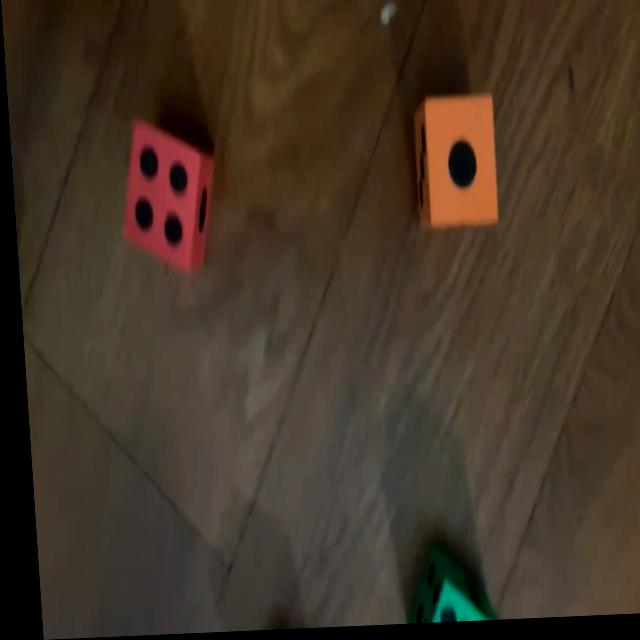red_block: (115, 119, 216, 276)
